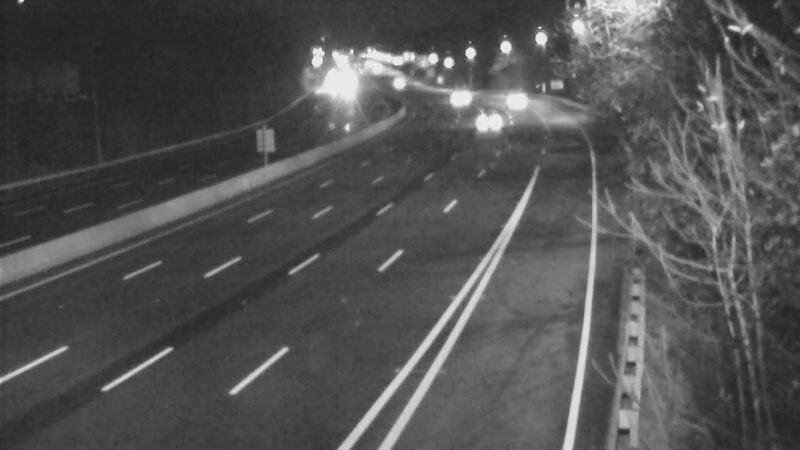vehicle: (368, 59, 418, 109), (491, 77, 541, 127), (429, 73, 479, 123), (461, 95, 511, 145)
